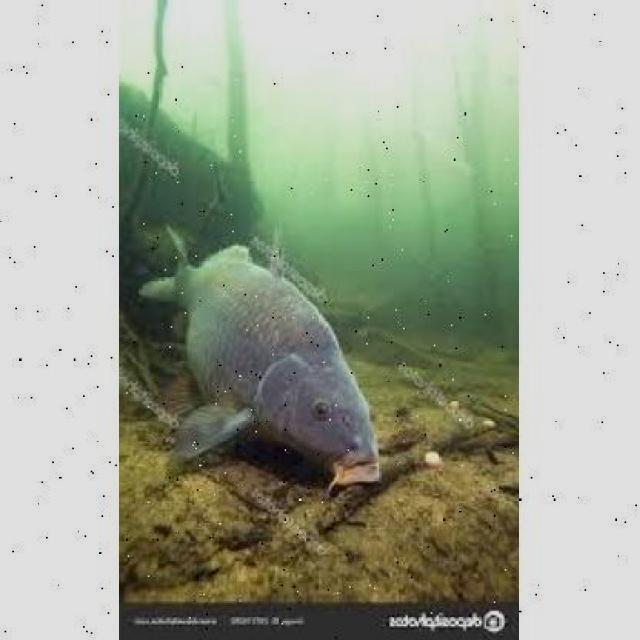ikan-mas: (136, 220, 384, 463)
